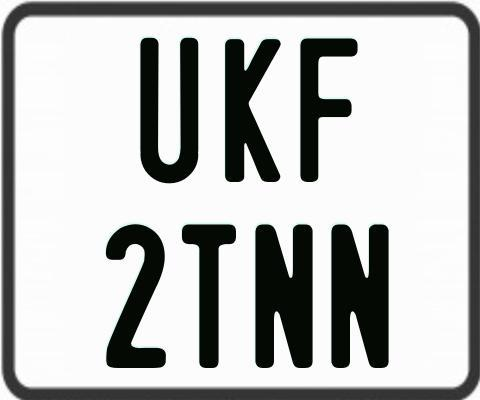2: (105, 223, 171, 370)
F: (299, 37, 357, 187)
K: (225, 38, 281, 186)
N: (254, 222, 317, 367), (331, 222, 389, 372)
T: (182, 223, 241, 367)
U: (139, 38, 197, 184)
